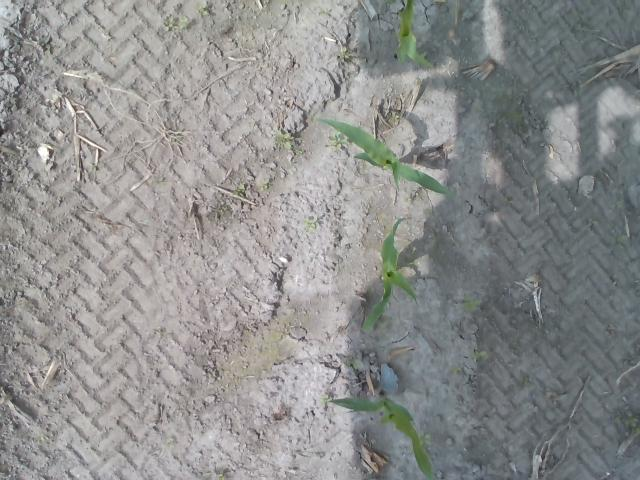Maize: (316, 116, 449, 196), (327, 390, 442, 480), (356, 214, 424, 340), (396, 0, 431, 68)
Weeds: (162, 14, 188, 32), (274, 133, 294, 150), (622, 413, 640, 429), (417, 432, 434, 446), (464, 298, 482, 311), (304, 218, 318, 231), (329, 138, 343, 149), (196, 3, 208, 15), (234, 184, 247, 194), (339, 46, 348, 59), (474, 351, 486, 359), (214, 473, 225, 480), (260, 181, 269, 189)
